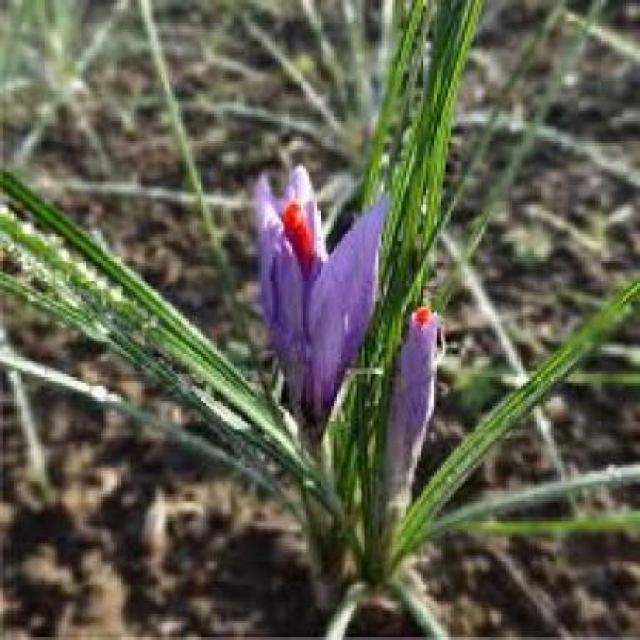saffron closed: (388, 308, 439, 512)
saffron open: (255, 168, 386, 456)
